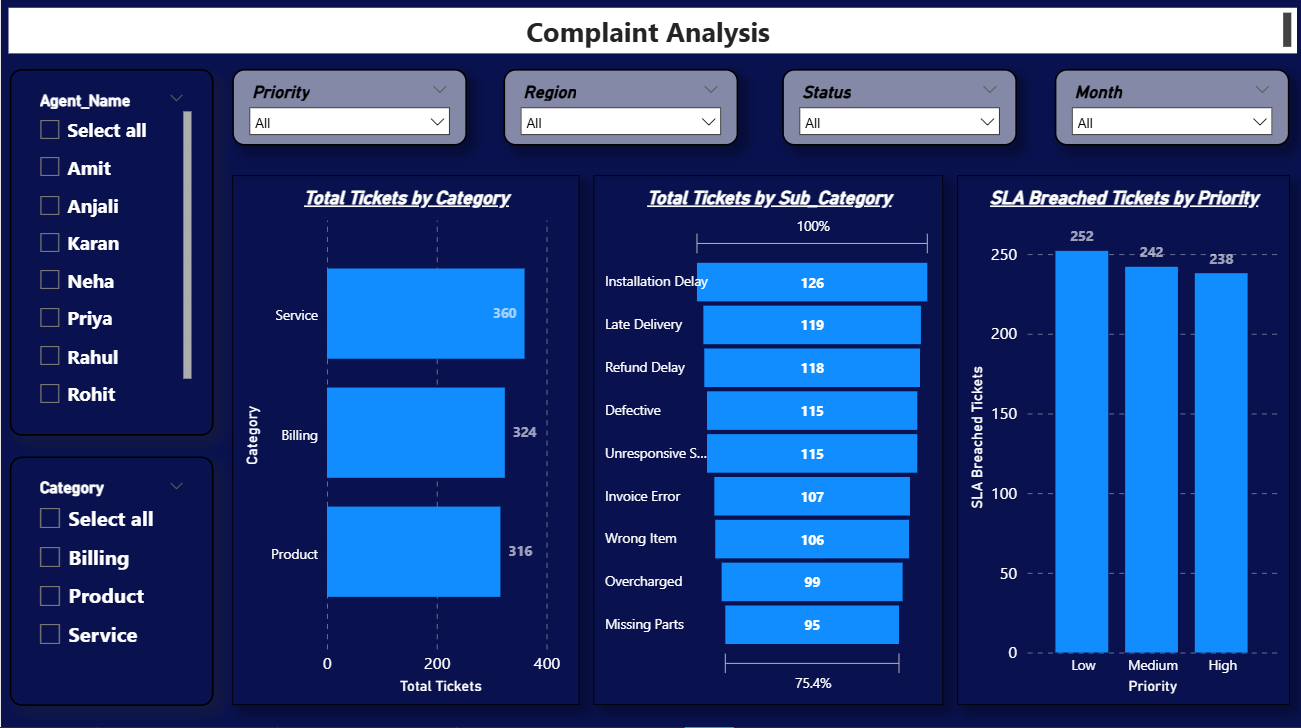

This screenshot's page, from the dashboard's own definition file:
{"tool":"powerbi","page":{"name":"Complaint Analysis","canvas":[1280,720],"ordinal":1},"visuals":[{"type":"textbox","box":[7.8,13.3,1264.4,44.4],"z":0},{"type":"slicer","fields":{"Values":["Agent_Data.Agent_Name"]},"box":[8.7,73.9,200,360],"z":1000},{"type":"slicer","fields":{"Values":["Complaints_Data.Category"]},"box":[8.7,453.6,200,244.9],"z":2000},{"type":"slicer","fields":{"Values":["Complaints_Data.Priority"]},"box":[227.5,73.9,230.4,75.4],"z":3000},{"type":"slicer","fields":{"Values":["Complaints_Data.Region"]},"box":[492.8,73.9,230.4,75.4],"z":4000},{"type":"slicer","fields":{"Values":["Complaints_Data.Month"]},"box":[1034.8,73.9,230.4,75.4],"z":5000},{"type":"slicer","fields":{"Values":["Complaints_Data.Status"]},"box":[766.7,73.9,230.4,75.4],"z":6000},{"type":"barChart","fields":{"Category":["Complaints_Data.Category"],"Y":["Complaints_Data.Total Tickets"]},"box":[227.5,178.3,340.6,520.3],"z":7000},{"type":"funnel","fields":{"Category":["Complaints_Data.Sub_Category"],"Y":["Complaints_Data.Total Tickets"]},"box":[581.2,178.3,343.5,520.3],"z":8000},{"type":"columnChart","fields":{"Category":["Complaints_Data.Priority"],"Y":["Resolution_Data.SLA Breached Tickets"]},"box":[939.1,178.3,326.1,520.3],"z":9000}]}

Visuals, with their boxes in screenshot pixels (x1, y1, x2, y2), scaled from the page's 1280x720 canvas onto the 1301x728 screenshot:
textbox: locate(8, 13, 1293, 58)
slicer - Agent_Data.Agent_Name: locate(9, 75, 212, 439)
slicer - Complaints_Data.Category: locate(9, 459, 212, 706)
slicer - Complaints_Data.Priority: locate(231, 75, 465, 151)
slicer - Complaints_Data.Region: locate(501, 75, 735, 151)
slicer - Complaints_Data.Month: locate(1052, 75, 1286, 151)
slicer - Complaints_Data.Status: locate(779, 75, 1013, 151)
barChart - Complaints_Data.Category x Complaints_Data.Total Tickets: locate(231, 180, 577, 706)
funnel - Complaints_Data.Sub_Category x Complaints_Data.Total Tickets: locate(591, 180, 940, 706)
columnChart - Complaints_Data.Priority x Resolution_Data.SLA Breached Tickets: locate(955, 180, 1286, 706)
